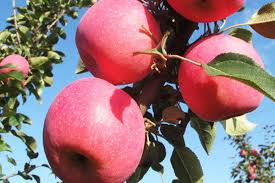Apple: (43, 78, 145, 182), (176, 33, 265, 122), (76, 0, 162, 80), (169, 0, 246, 22), (1, 54, 30, 84)
